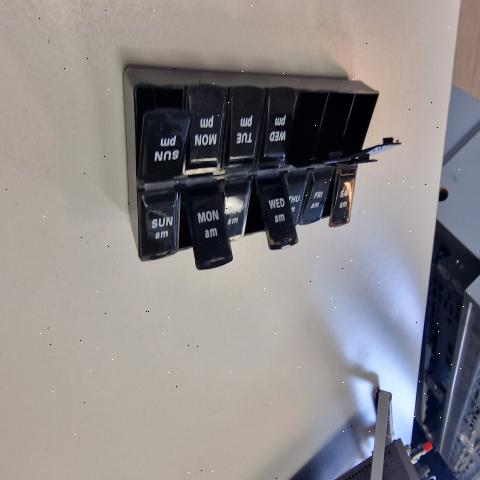Open: (286, 90, 354, 164), (136, 88, 184, 174), (323, 94, 361, 159), (345, 93, 383, 151), (246, 177, 271, 248), (178, 186, 198, 269), (321, 169, 336, 224)
